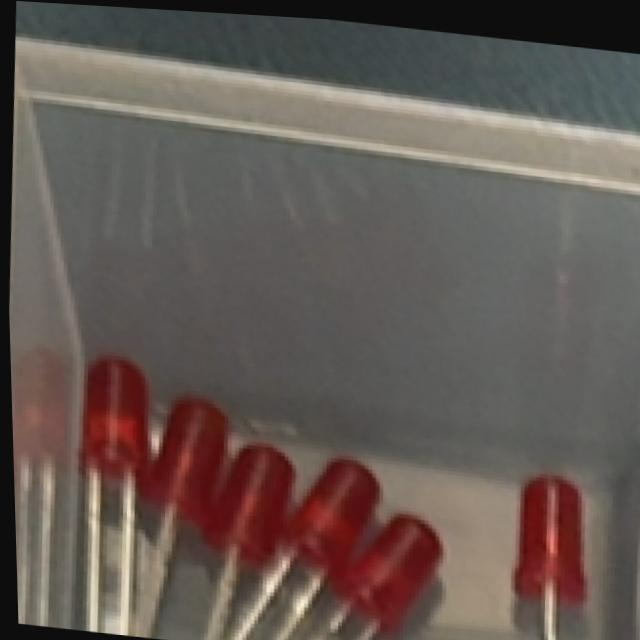RED_LED: (202, 433, 379, 640), (117, 387, 236, 640), (62, 347, 162, 639), (186, 435, 302, 640), (286, 498, 451, 640), (502, 466, 599, 640)
